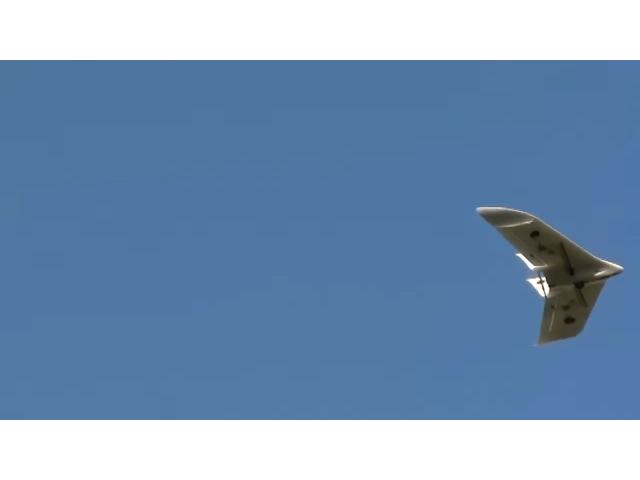Anti-Drone: (477, 208, 625, 344)
